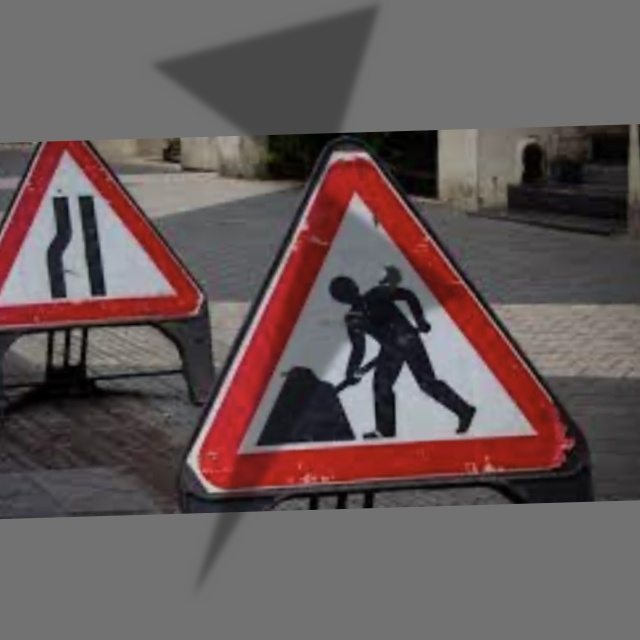Men_at_Work: (181, 171, 567, 503)
